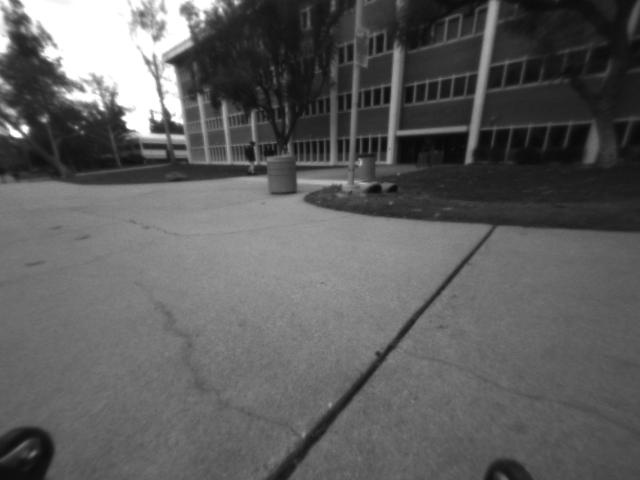trashcan: (265, 155, 296, 196), (357, 150, 380, 182)
